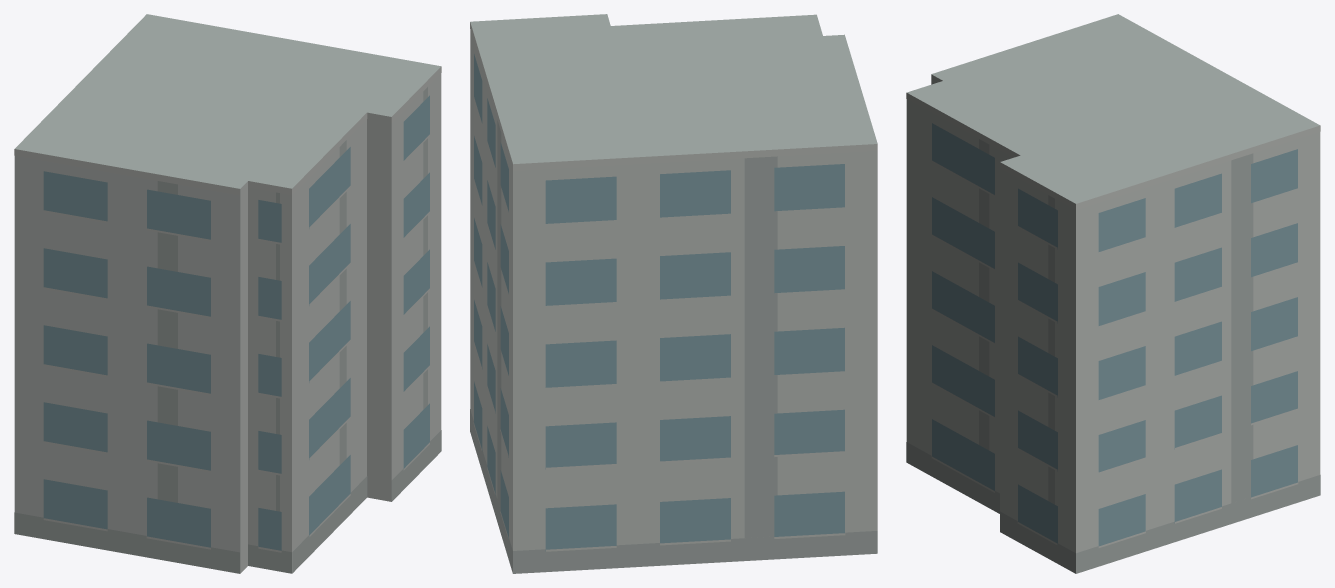
File: survey-upis-32801472.glb
The picture shows the model from 3 angles, left to right: view 1: azimuth 30°, elevation 25°; view 2: azimuth 150°, elevation 25°; view 3: azimuth 270°, elevation 25°; orthographic projection. The views are drawn at different scales.
Visible parts, largest first — view 1: survey-upis-32801472.tmp; view 2: survey-upis-32801472.tmp; view 3: survey-upis-32801472.tmp.
Boxes of the visible parts, x1,y1,x2,y2 form: survey-upis-32801472.tmp: [14, 14, 441, 573]; survey-upis-32801472.tmp: [470, 14, 877, 573]; survey-upis-32801472.tmp: [906, 14, 1320, 573].
Bounding box in the file's own units: 15.75 × 14.3 × 14.51.
